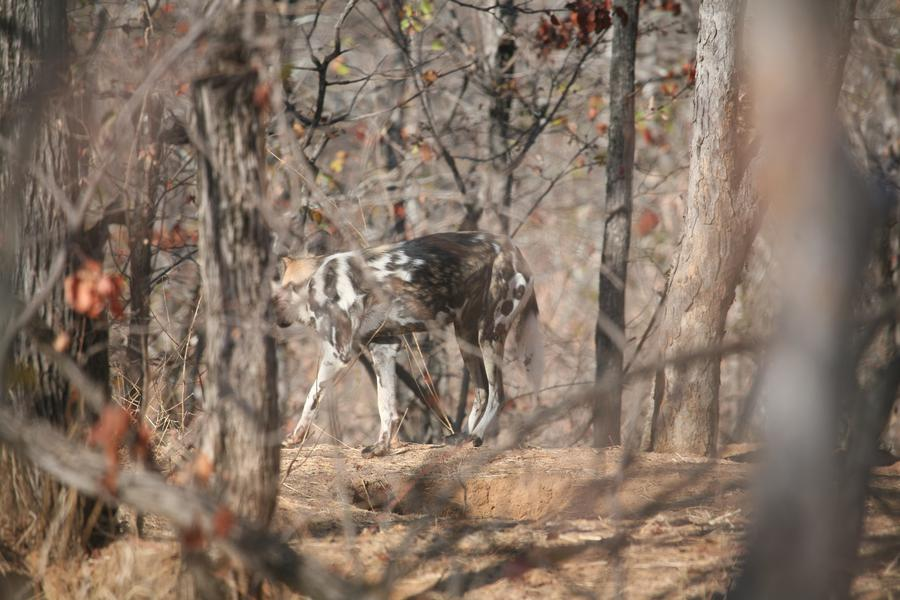wilddog: (281, 207, 537, 406)
